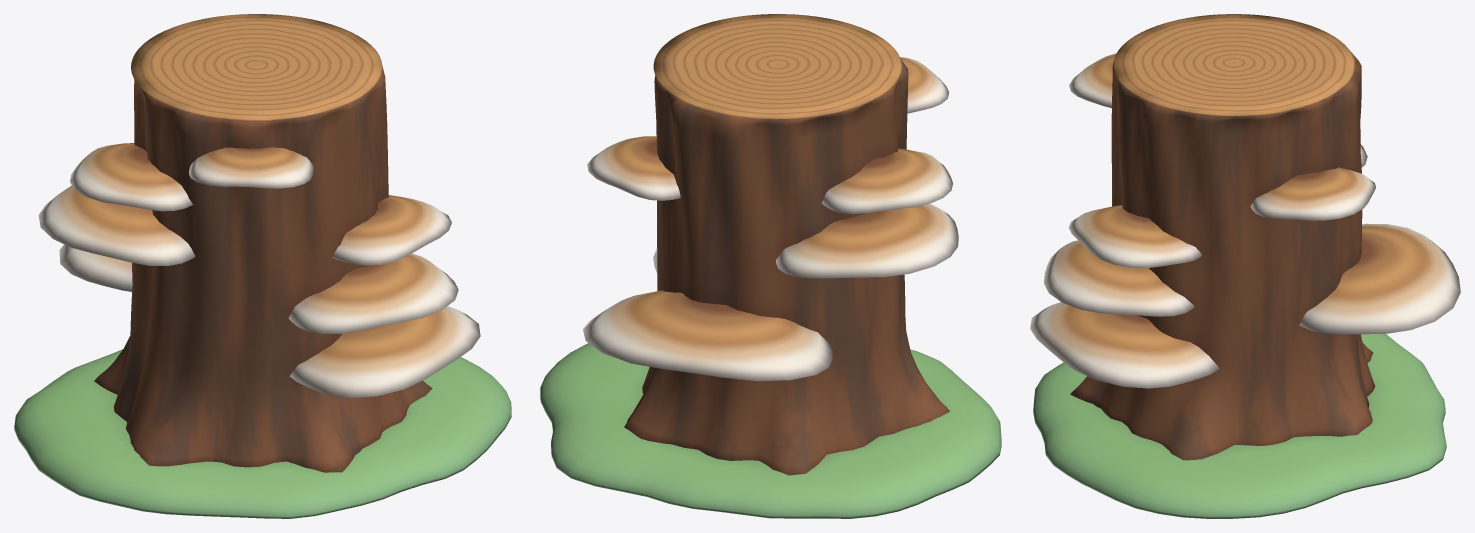
The model's file is grab3d-bracket-fungus.glb.
3 renders of one model, left to right at view 1: azimuth 30°, elevation 25°; view 2: azimuth 150°, elevation 25°; view 3: azimuth 270°, elevation 25°, orthographic. The views are drawn at different scales.
Visible parts, largest first — view 1: bracket-fungus_body; view 2: bracket-fungus_body; view 3: bracket-fungus_body.
Boxes of the visible parts, left/top/right/bottom form: bracket-fungus_body: left=14, top=14, right=511, bottom=518; bracket-fungus_body: left=540, top=14, right=1001, bottom=518; bracket-fungus_body: left=1030, top=14, right=1460, bottom=518.
Bounding box in the file's own units: 0.427 × 0.344 × 0.3838.
Materials: 1 (1 with a texture image).
